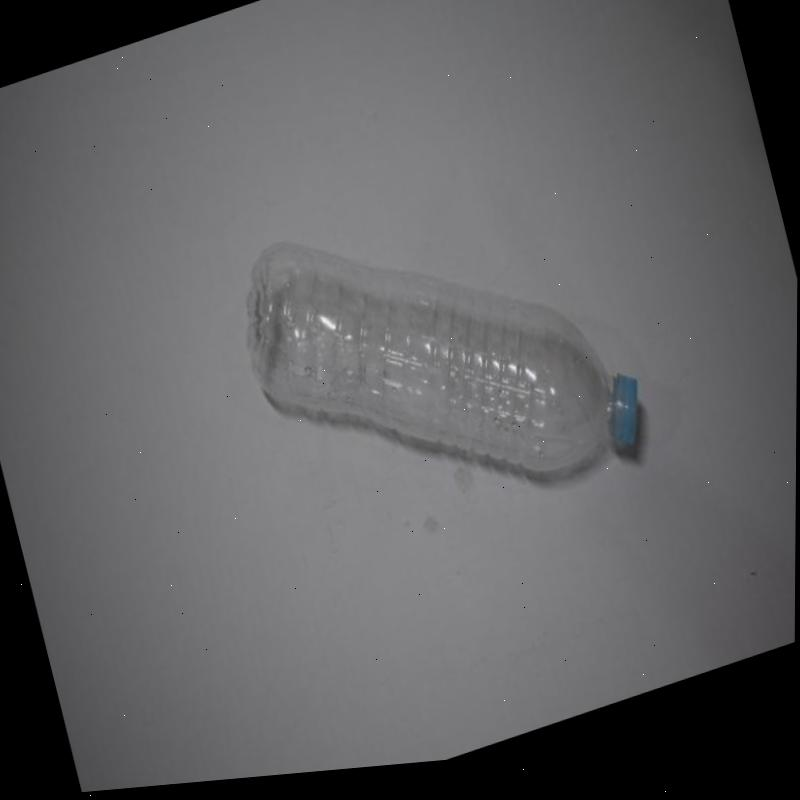botella: (224, 146, 655, 576)
